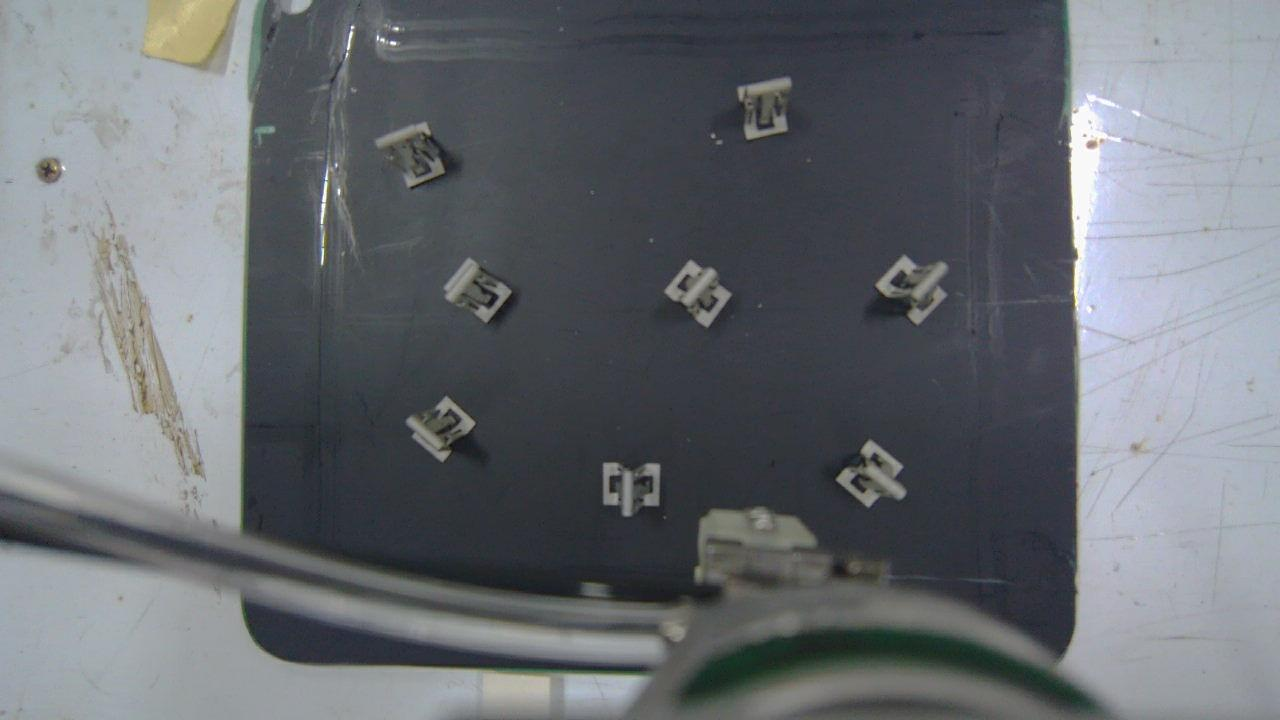ng: (373, 121, 445, 189), (442, 257, 513, 322), (408, 397, 476, 462), (735, 77, 792, 141)
pass: (837, 436, 905, 509), (664, 259, 735, 328), (879, 255, 948, 323), (604, 461, 660, 516)
